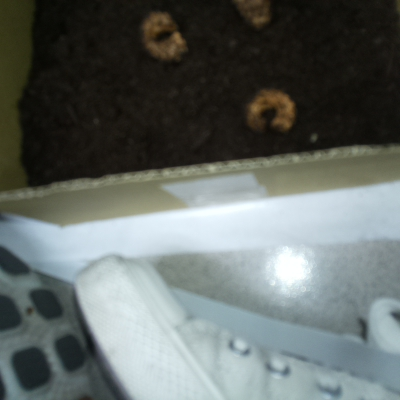eggs: (234, 81, 300, 140), (131, 4, 192, 67), (230, 1, 280, 33)
